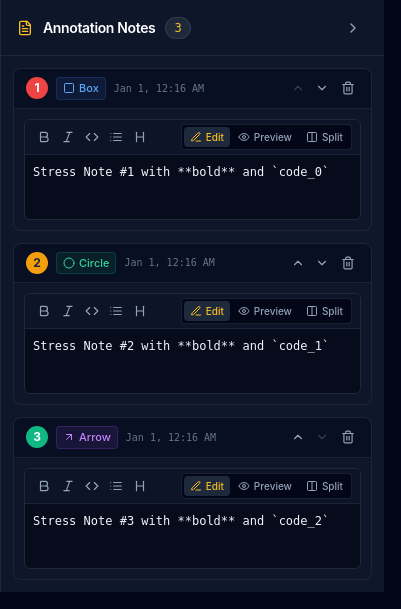
Test: Milestone 4 Challenger 1: Sidebar Reordering, Deletion & 1..N Sequence Invariant Stress Suite › Suite 6: Component-Level RTL Integration & Interactive Reordering › C6.2: Interactively reorders cards via Move Down and Move Up in RTL DOM
This screenshot has width=401, height=609.
Check: the text with test id "card-badge-stress_ann_0" reads "1", box [34, 80, 40, 95]
Check: the text with test id "card-badge-stress_ann_1" reads "2", box [33, 255, 41, 270]
Note: Click Move Down on item 1 (ann_0)
What coordinates should you click on to do the following:
click the button with test id "note-card-move-down-1"
I would click on:
 (322, 88)
Its box is [311, 77, 333, 99].
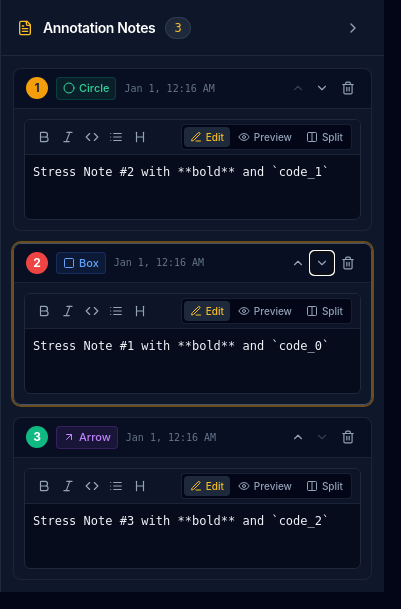
Check: the text with test id "card-badge-stress_ann_2" reads "3", box [33, 429, 41, 444]
Check: the text with test id "card-badge-stress_ann_1" reads "1", box [34, 80, 40, 95]
Check: the text with test id "card-badge-stress_ann_0" reads "2", box [33, 255, 41, 270]
Note: Click Move Up on item 2 (now ann_0)
What coordinates should you click on to do the following:
click the button with test id "note-card-move-up-2"
I would click on:
 (298, 263)
Its box is [287, 252, 309, 274].
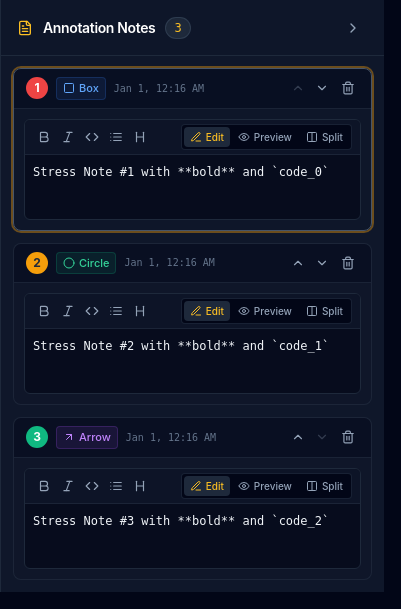
Check: the text with test id "card-badge-stress_ann_2" reads "3", box [33, 429, 41, 444]
Check: the text with test id "card-badge-stress_ann_0" reads "1", box [34, 80, 40, 95]
Check: the text with test id "card-badge-stress_ann_1" reads "2", box [33, 255, 41, 270]
